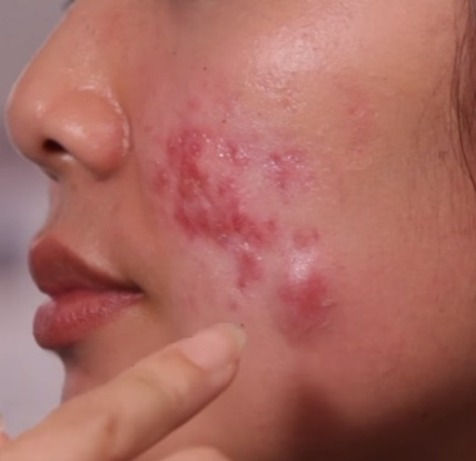Acne: (149, 111, 269, 267), (276, 255, 337, 322)
